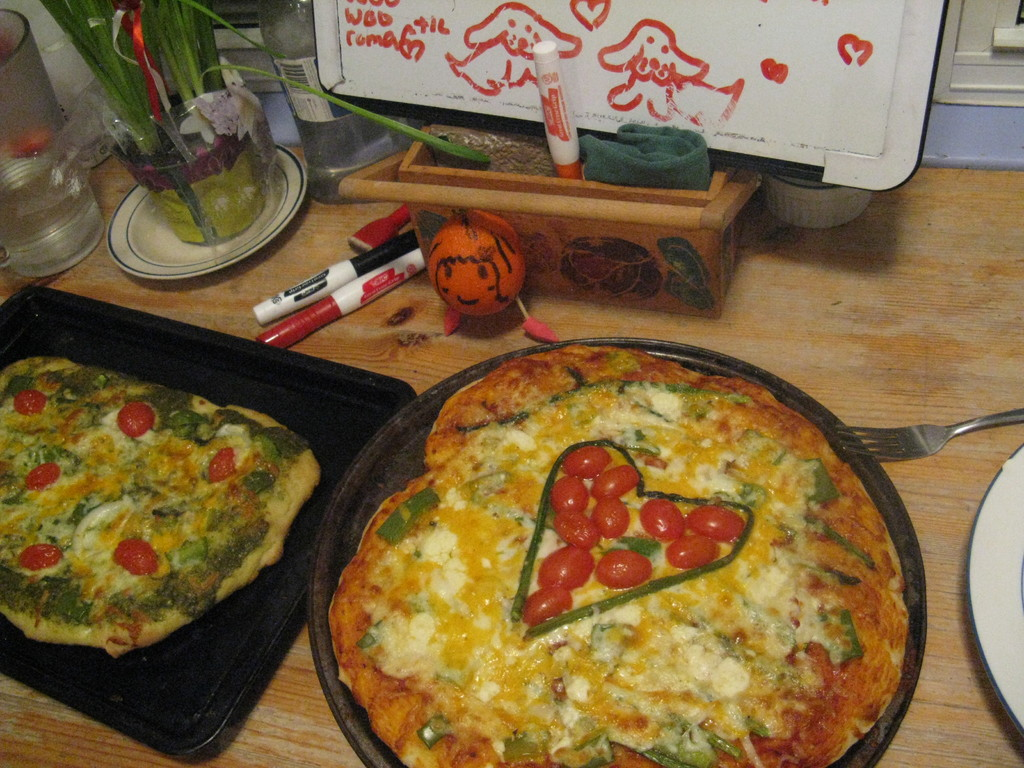Pizza: (332, 348, 912, 767), (0, 372, 335, 660)
